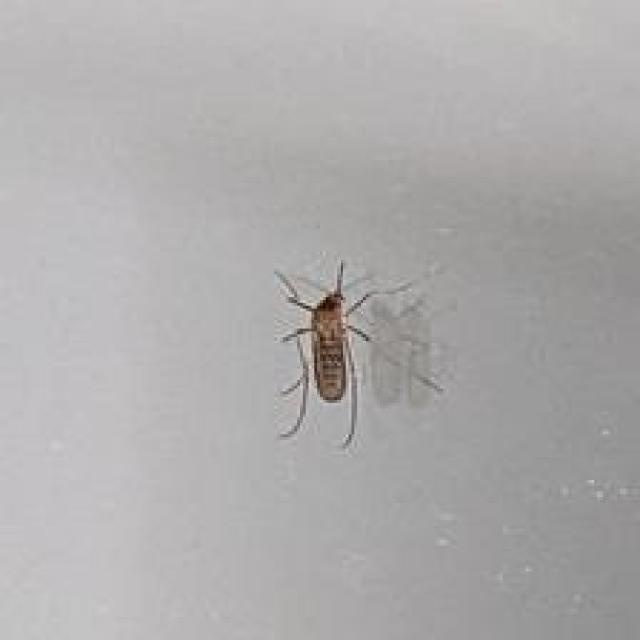Culex: (271, 257, 443, 449)
